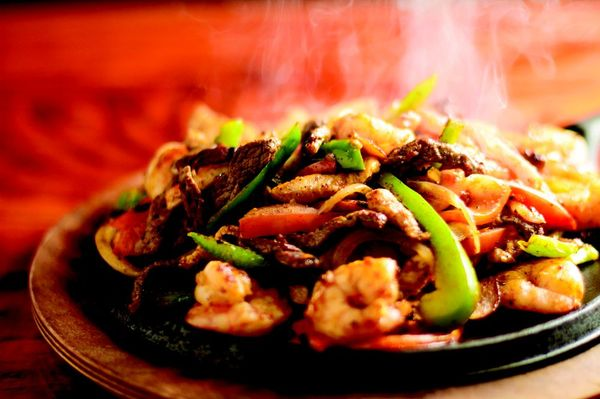curry: (1, 2, 596, 394)
